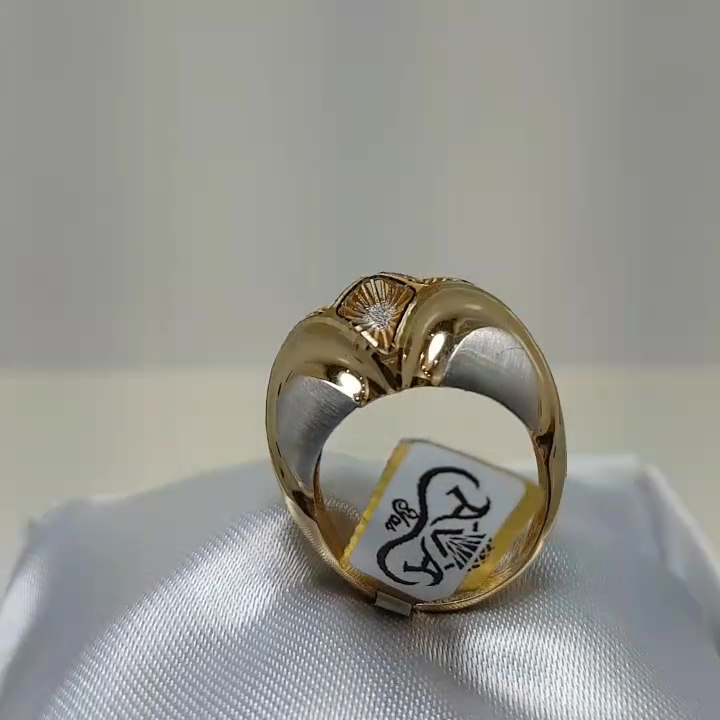Ring 2: (228, 262, 580, 624)
